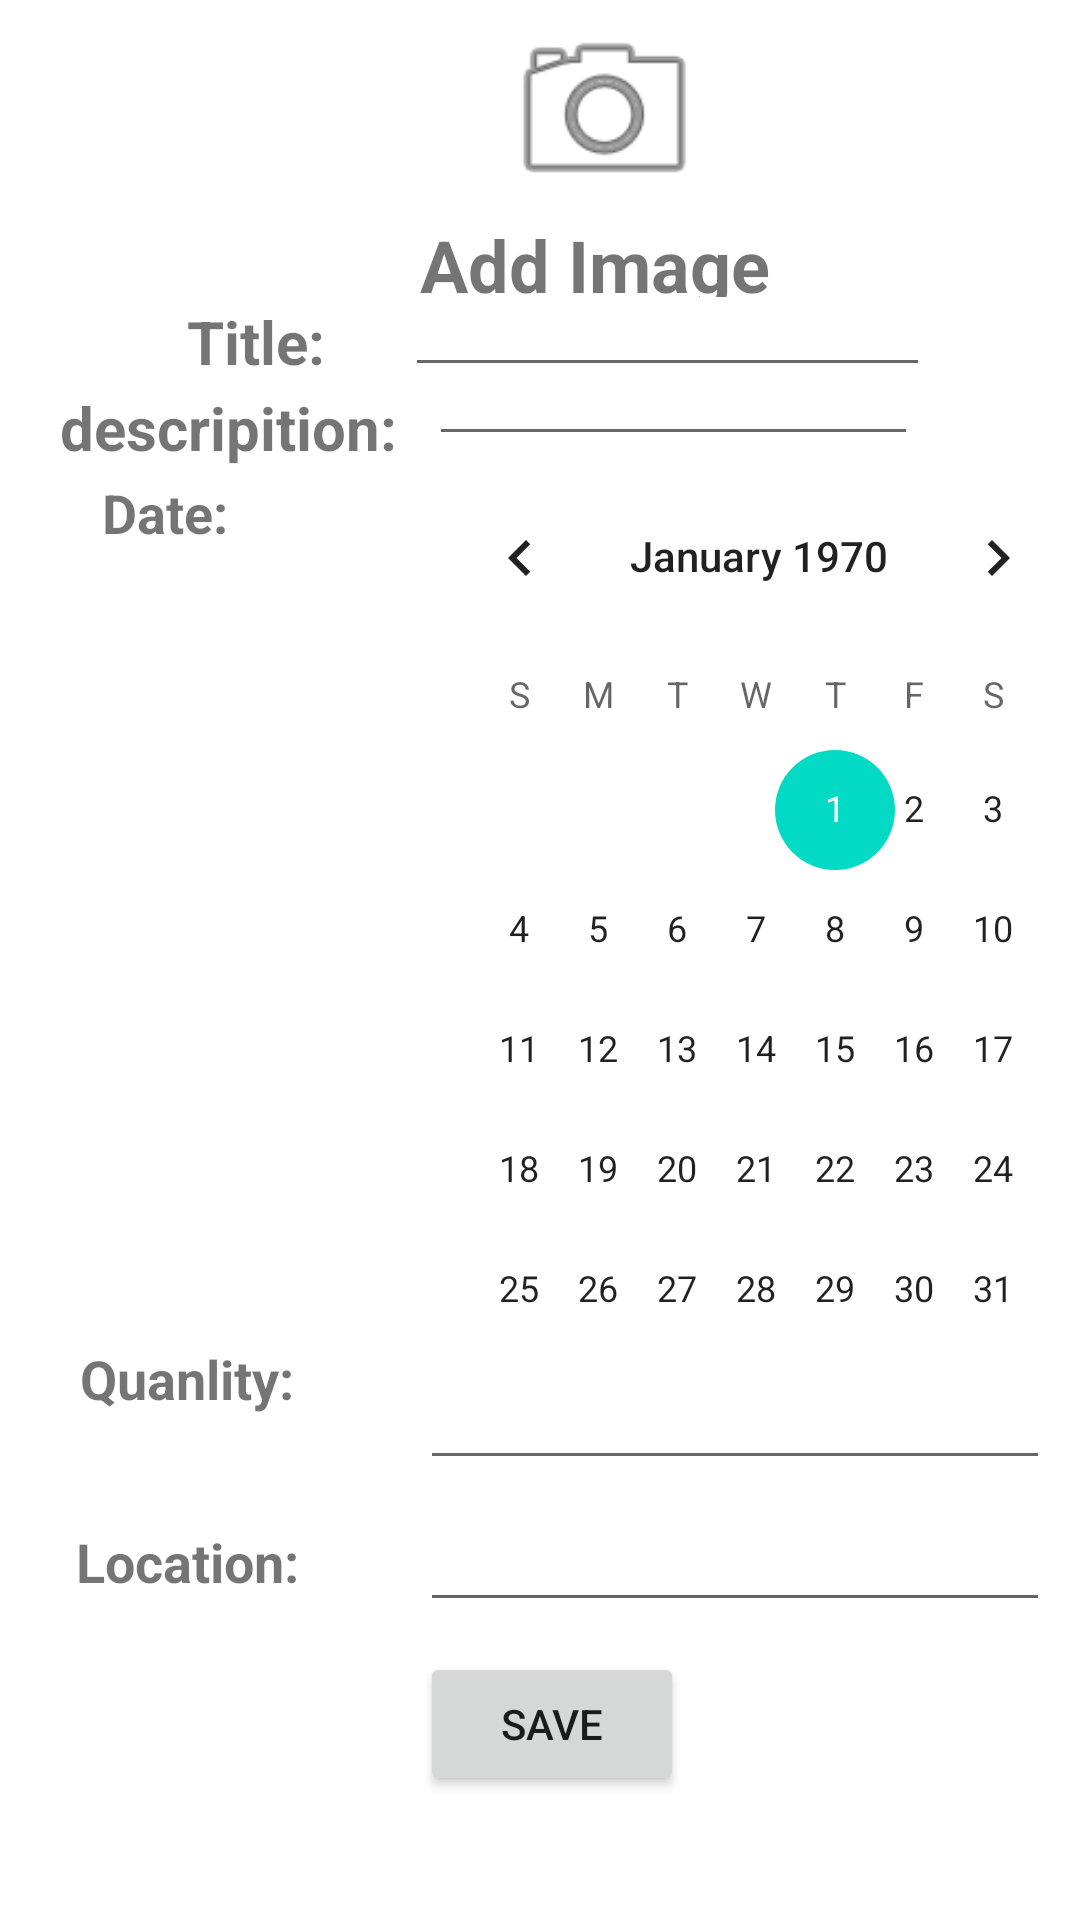

Icons on this 1080 x 1920 Android screen, each with its box as (x1, y1, x2, y2):
camera: (523, 43, 686, 173)
